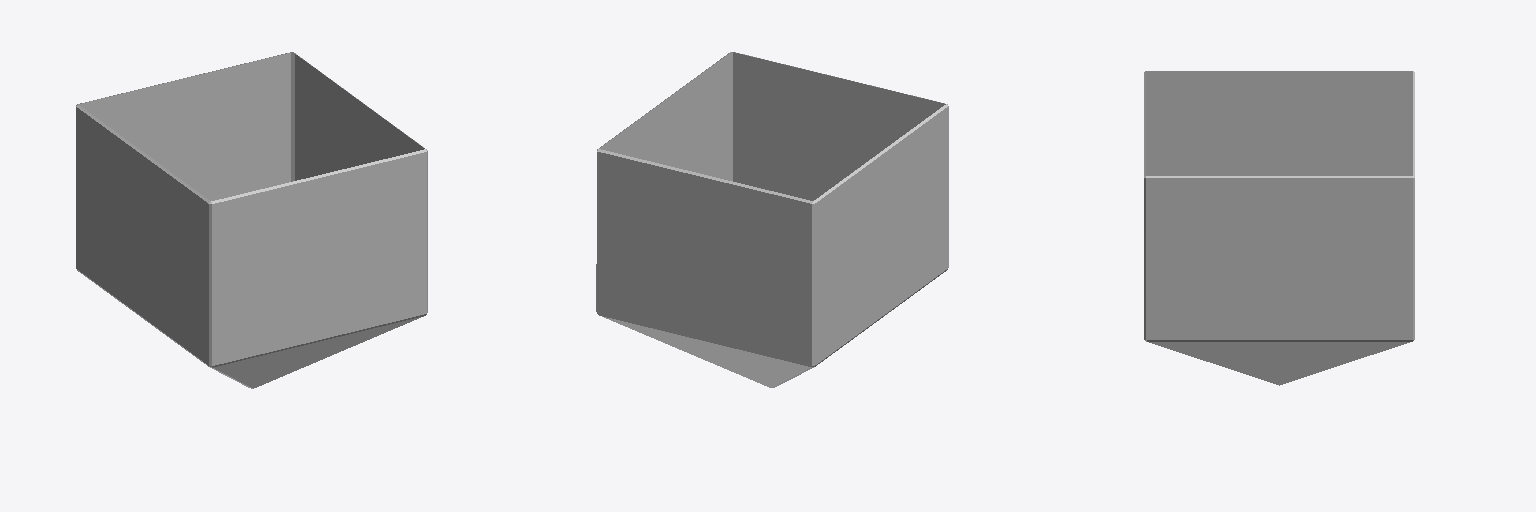
Rendered from newhostelh2.obj.
3 views of the same model, side by side, from view 1: azimuth 30°, elevation 25°; view 2: azimuth 150°, elevation 25°; view 3: azimuth 270°, elevation 25° (orthographic).
Bounding box in the file's own units: 2.32 × 2.54 × 2.41.